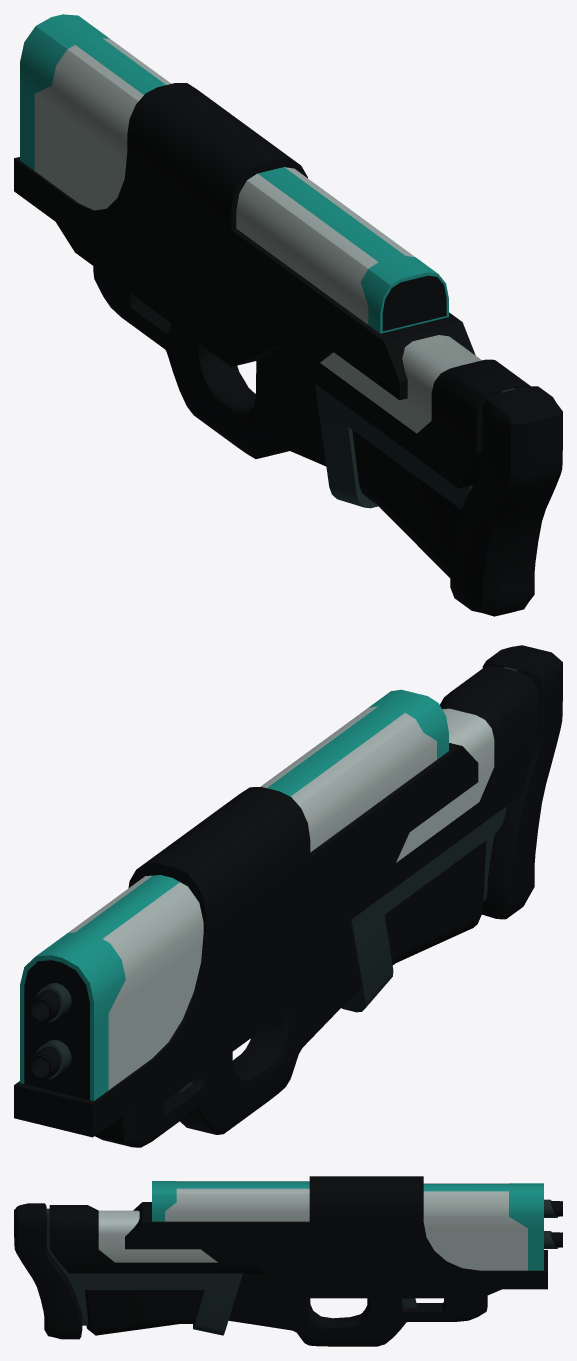
The model's file is pulse-carbine.glb.
3 renders of one model, top to bottom at view 1: azimuth 30°, elevation 25°; view 2: azimuth 150°, elevation 25°; view 3: azimuth 270°, elevation 25°, orthographic. The views are drawn at different scales.
Parts seen in each view (by area): view 1: AR_2; view 2: AR_2; view 3: AR_2.
Boxes of the visible parts, box(x1,y1,x2,y2) form: AR_2: box(14, 14, 562, 616); AR_2: box(14, 645, 562, 1147); AR_2: box(14, 1176, 562, 1346).
Size of the model in its own units: 0.1356 by 0.4864 by 1.49.
